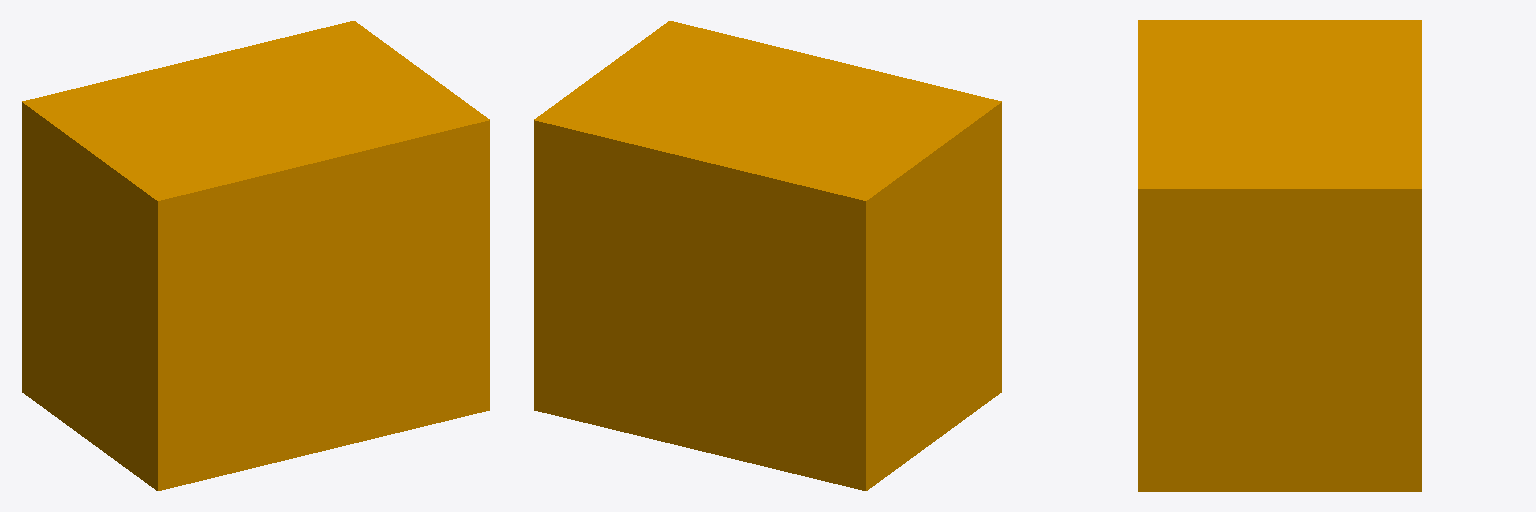
robot.urdf — object:
<robot name="object">
  <link name="object">
    <visual>
      <origin xyz="0 0 0" />
      <geometry>
        <box size="0.09600000000000003 0.068 0.08" />
      </geometry>
    </visual>

    <collision>
      <origin xyz="0 0 0" />
      <geometry>
        <box size="0.09600000000000003 0.068 0.08" />
      </geometry>
    </collision>

    <inertial>
      <mass value="0.05" />
      <inertia ixx="0.0001" ixy="0.0" ixz="0.0" iyy="0.0001" iyz="0.0" izz="0.0001" />
    </inertial>
  </link>
</robot>

--- What the picture shows (computed from the rendered views, not written in the file) ---
3 views of the same robot in one strip: view 1: azimuth 30°, elevation 25°; view 2: azimuth 150°, elevation 25°; view 3: azimuth 270°, elevation 25° (orthographic).
Model object with 1 links and 0 joints (none), rooted at object, posed every joint at zero.
Visible links, largest first — view 1: object; view 2: object; view 3: object.
Link boxes in pixels (<box>): object: <box>22,21,489,490</box>; object: <box>534,21,1001,490</box>; object: <box>1138,20,1421,491</box>.
Size in the robot's own frame: 0.096 by 0.068 by 0.08 metres.
Geometry: primitives only (box / cylinder / sphere), no mesh files.